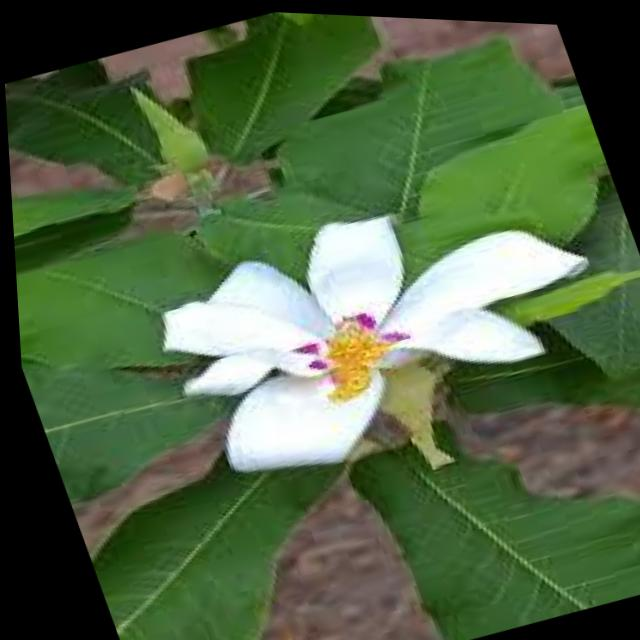Flower: (108, 149, 640, 533)
